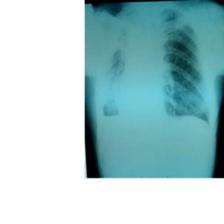tuberculosis: (92, 1, 217, 144)
